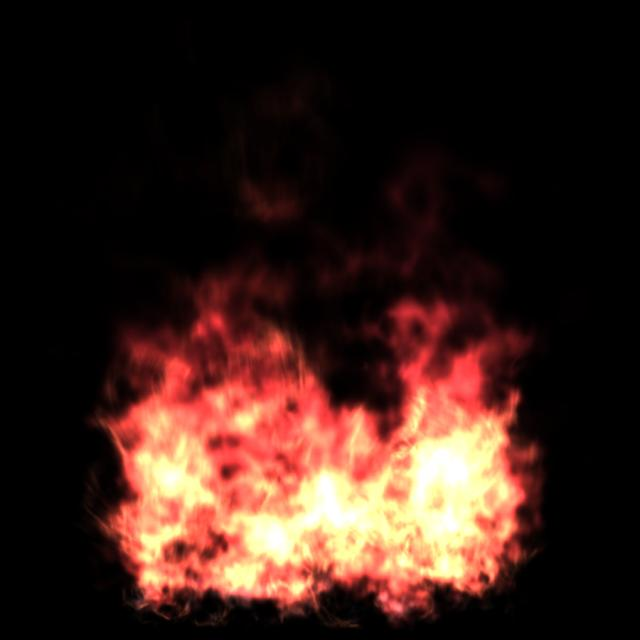fire: (93, 263, 595, 621)
